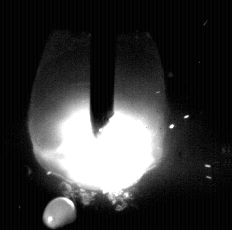arame: (90, 0, 115, 136)
poca: (30, 0, 167, 230)
